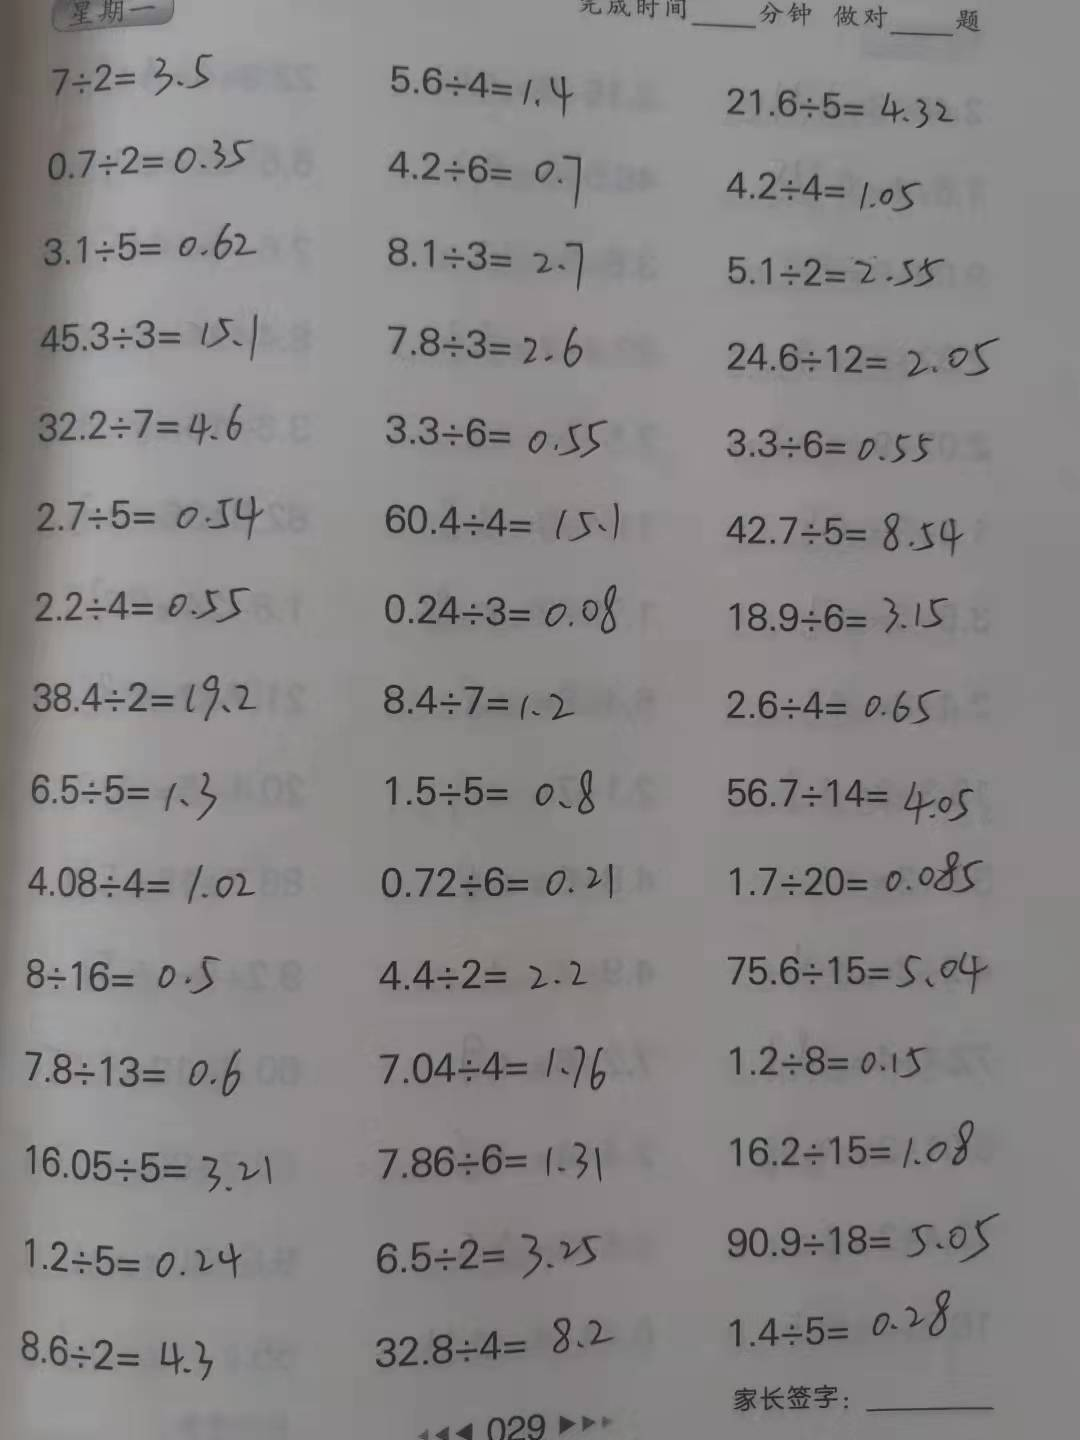equation: (14, 1123, 299, 1202), (710, 759, 995, 835), (719, 836, 995, 910), (370, 1310, 642, 1382), (7, 1220, 254, 1298), (723, 322, 1007, 389), (377, 573, 635, 645), (714, 1113, 993, 1179), (366, 391, 618, 464), (15, 1035, 255, 1111), (714, 73, 971, 143), (35, 293, 269, 370), (364, 849, 627, 917), (717, 1208, 1006, 1269), (724, 1280, 968, 1353), (717, 943, 1002, 1003), (368, 225, 600, 296), (722, 503, 981, 567), (15, 481, 273, 544), (377, 133, 587, 211), (20, 850, 269, 916), (717, 664, 950, 732), (372, 1033, 615, 1098), (368, 759, 606, 824), (379, 311, 594, 382), (369, 1127, 610, 1191), (34, 211, 263, 277), (363, 1225, 618, 1284), (11, 761, 235, 828), (374, 492, 632, 549), (373, 52, 580, 122), (717, 232, 950, 295), (364, 947, 600, 1008), (26, 664, 265, 725), (719, 416, 937, 478), (716, 583, 955, 639), (1, 1323, 228, 1382), (19, 571, 260, 627), (25, 396, 255, 454), (10, 946, 231, 1003), (40, 129, 256, 187), (373, 676, 593, 732), (723, 158, 929, 217), (720, 1035, 936, 1087), (41, 44, 223, 105)
